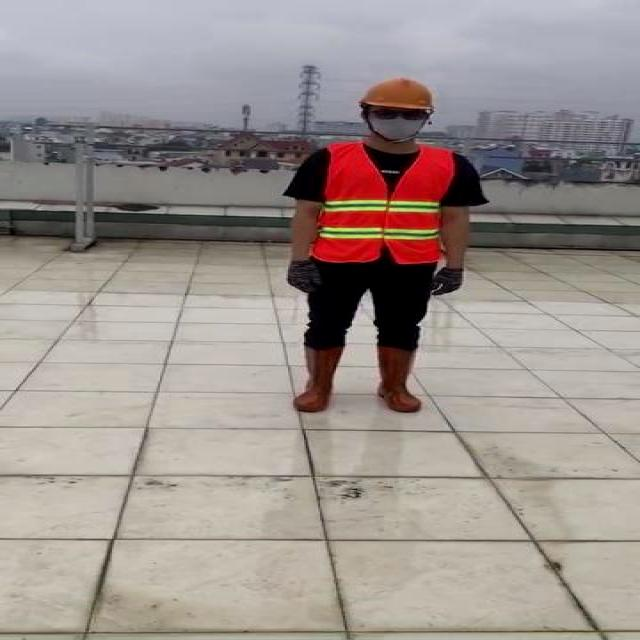boots: (286, 344, 348, 413), (375, 345, 425, 412)
face_mask: (371, 106, 429, 140)
glasses: (368, 107, 430, 123)
hand_glove: (425, 269, 466, 296), (286, 262, 320, 293)
head_helmet: (362, 76, 438, 110)
person: (279, 76, 487, 426)
vest: (315, 145, 455, 264)
